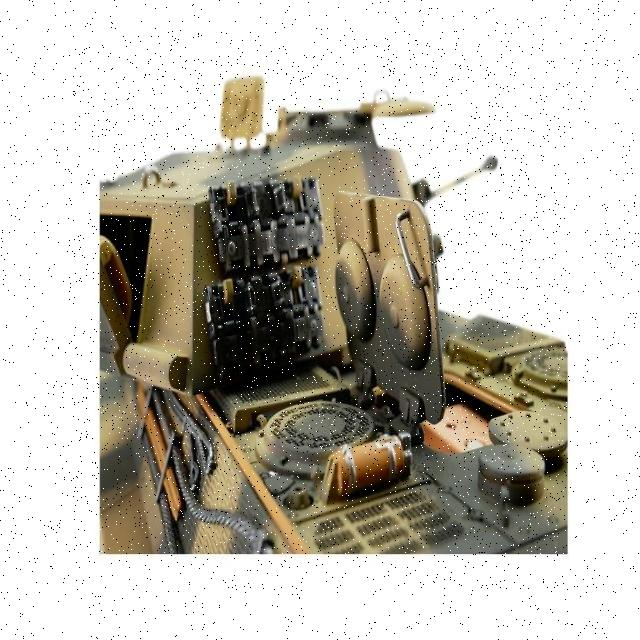MIL_MBT: (69, 38, 570, 589)
